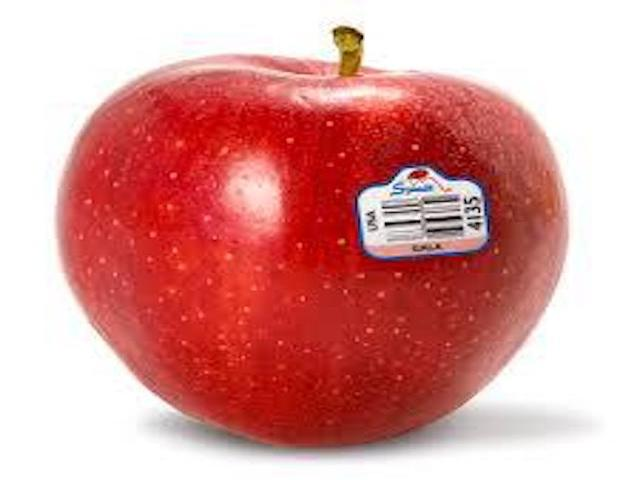apple: (48, 19, 580, 453)
